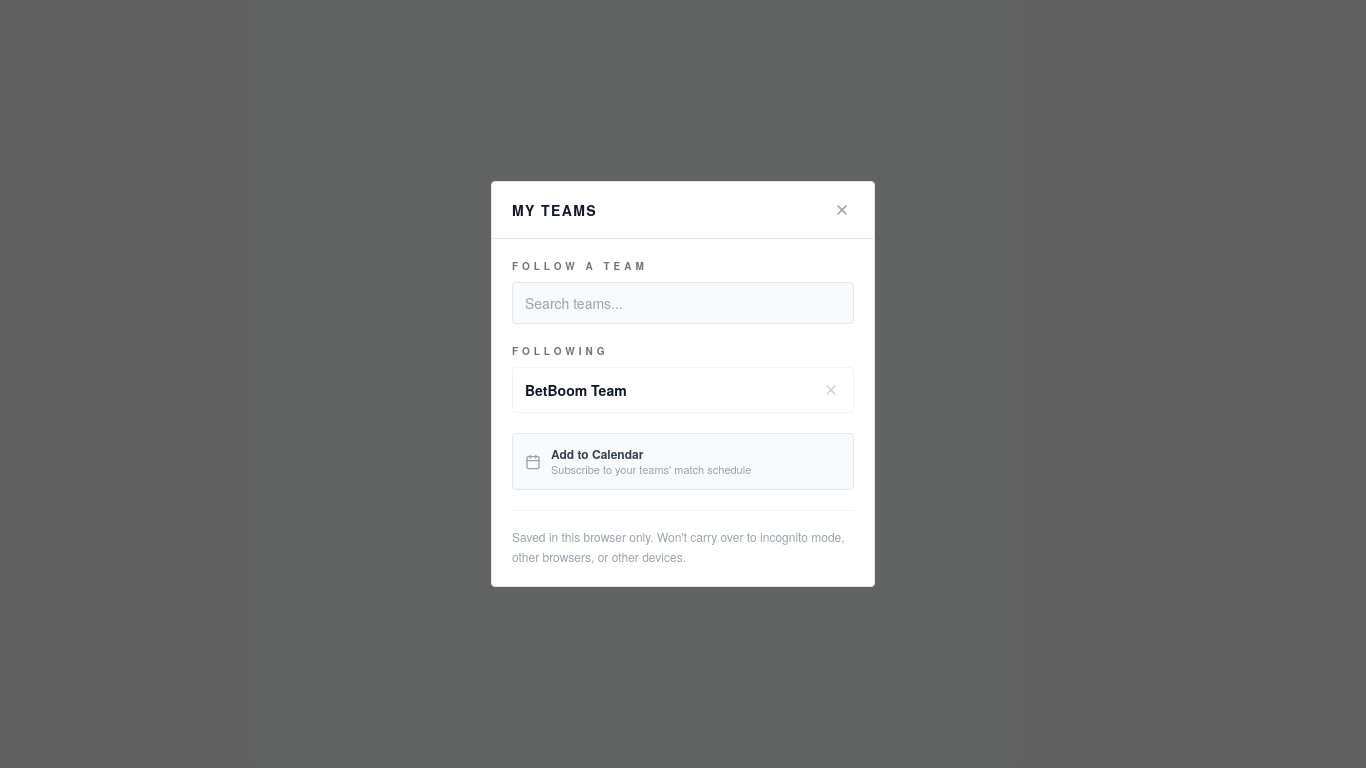
Scenario: ManageTeamsModal - alias search › excludes already-followed teams from suggestions even when their alias matches
Type "boomboys" into the field with placeholder "Search teams..." at (683, 303), box top-left (512, 282), bottom-right (854, 324)
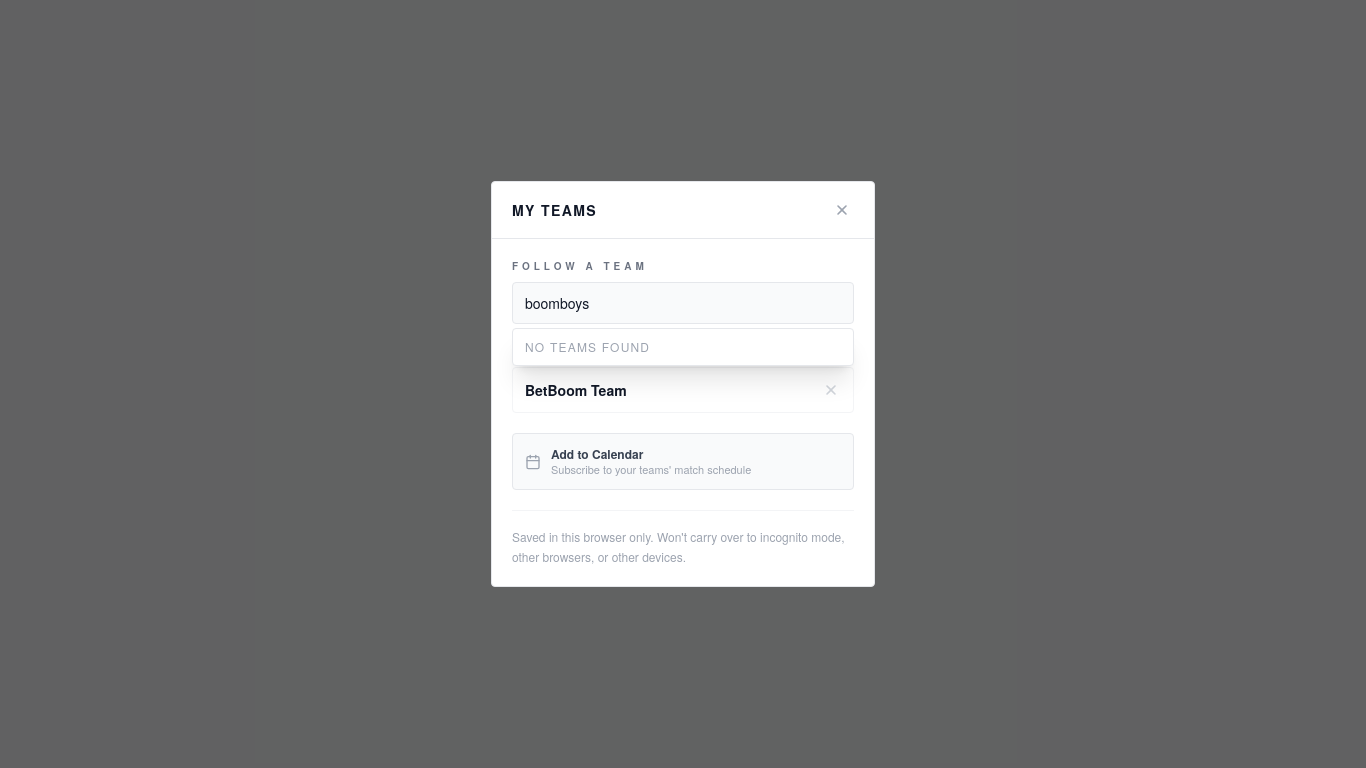
Result: the text "No teams found" is shown at top-left (525, 338), bottom-right (650, 355)
